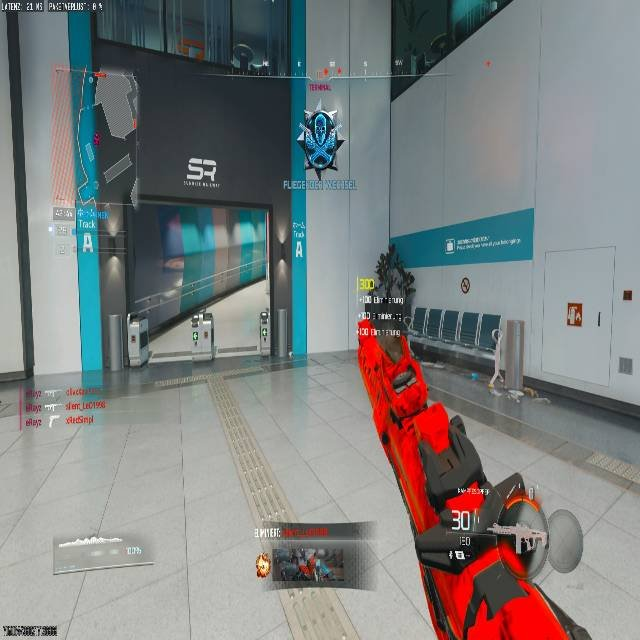head: (384, 244, 401, 265)
player: (363, 245, 416, 364), (302, 106, 343, 180)
